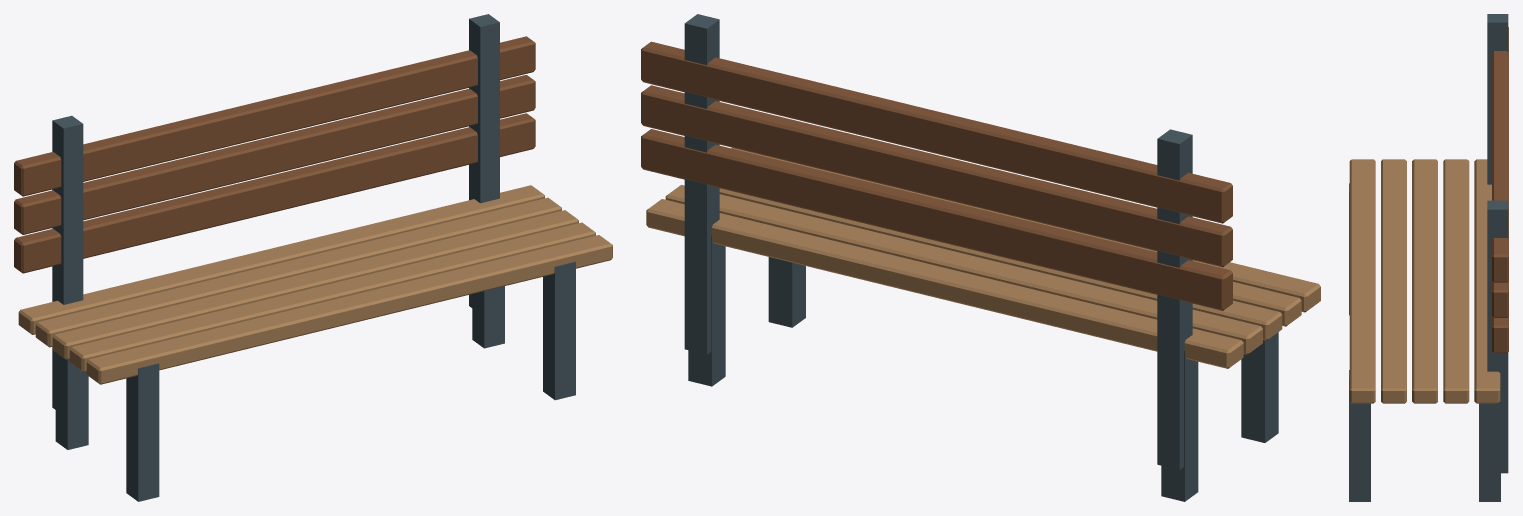
The model's file is park_bench.glb.
3 views of the same model, side by side, from view 1: azimuth 30°, elevation 25°; view 2: azimuth 150°, elevation 25°; view 3: azimuth 270°, elevation 25° (orthographic). The views are drawn at different scales.
Parts seen in each view (by area): view 1: park_bench; view 2: park_bench; view 3: park_bench.
Boxes of the visible parts, bbox=[...] form: park_bench: bbox=[14, 14, 612, 501]; park_bench: bbox=[641, 14, 1320, 501]; park_bench: bbox=[1349, 14, 1508, 501].
Bounding box in the file's own units: 2.1 × 1.24 × 0.615.
